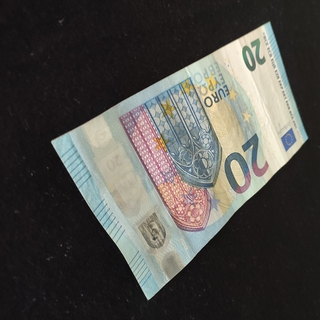20EUROFront: (51, 21, 309, 301)
